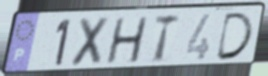1: (53, 18, 72, 68)
4: (184, 12, 212, 62)
D: (214, 10, 255, 62)
H: (103, 15, 150, 66)
T: (152, 13, 182, 65)
X: (68, 15, 112, 69)
